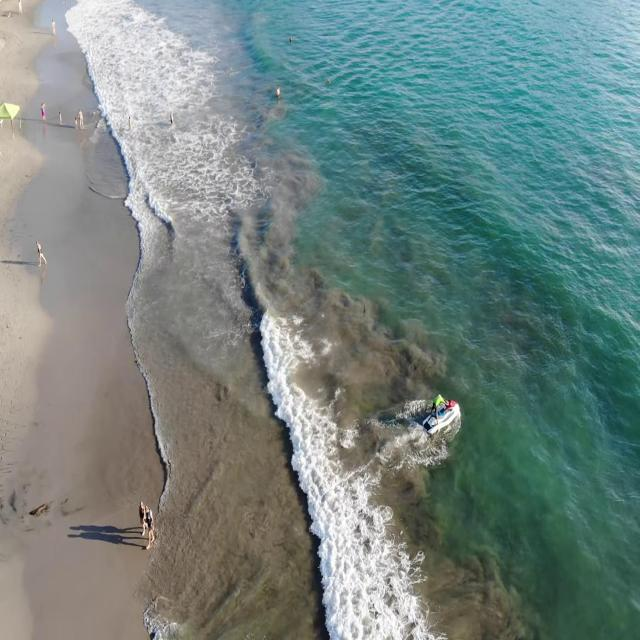boat: (420, 386, 461, 434)
